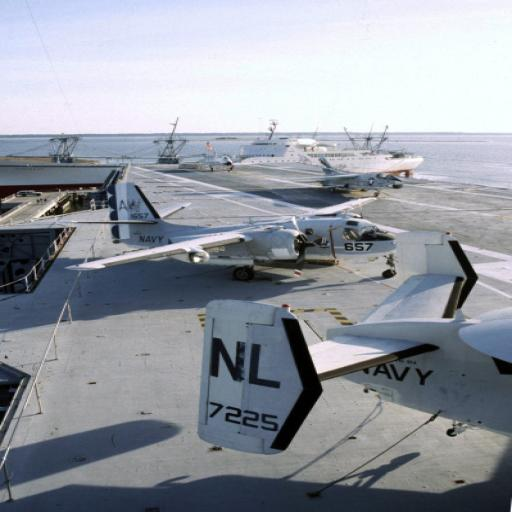Portanaves: (17, 31, 510, 452)
